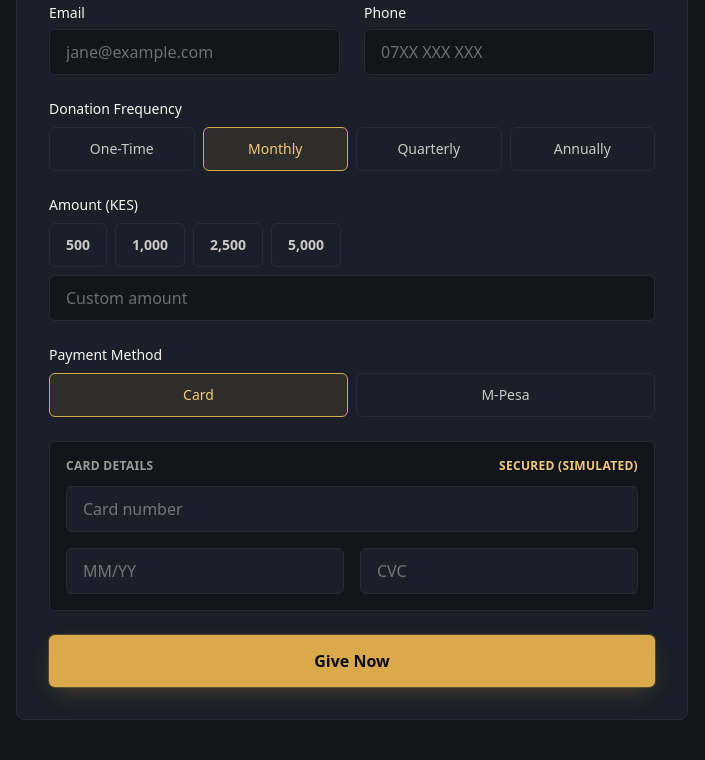
Scenario: DonationForm › blocks submission and shows errors when fields are empty
(page scrolled)
Click the button "Give Now" at coordinates (352, 661), box [49,635,655,687]
(page scrolled)
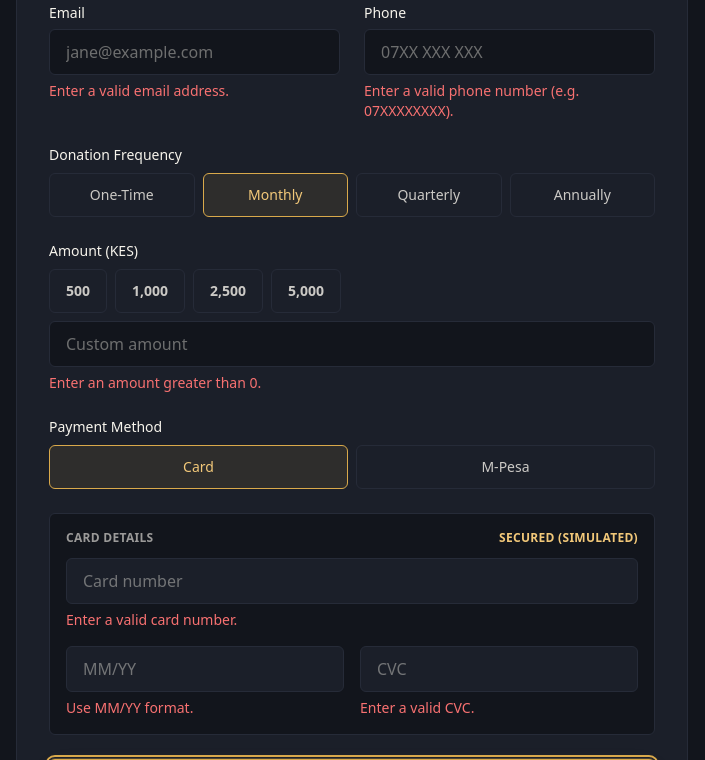
Now the text "Enter a valid email address." is shown, box [49,81,229,100]
Now the text "Enter a valid phone number (e.g. 07XXXXXXXX)." is shown, box [364,81,579,120]
Now the text "Enter an amount greater than 0." is shown, box [49,373,261,392]
